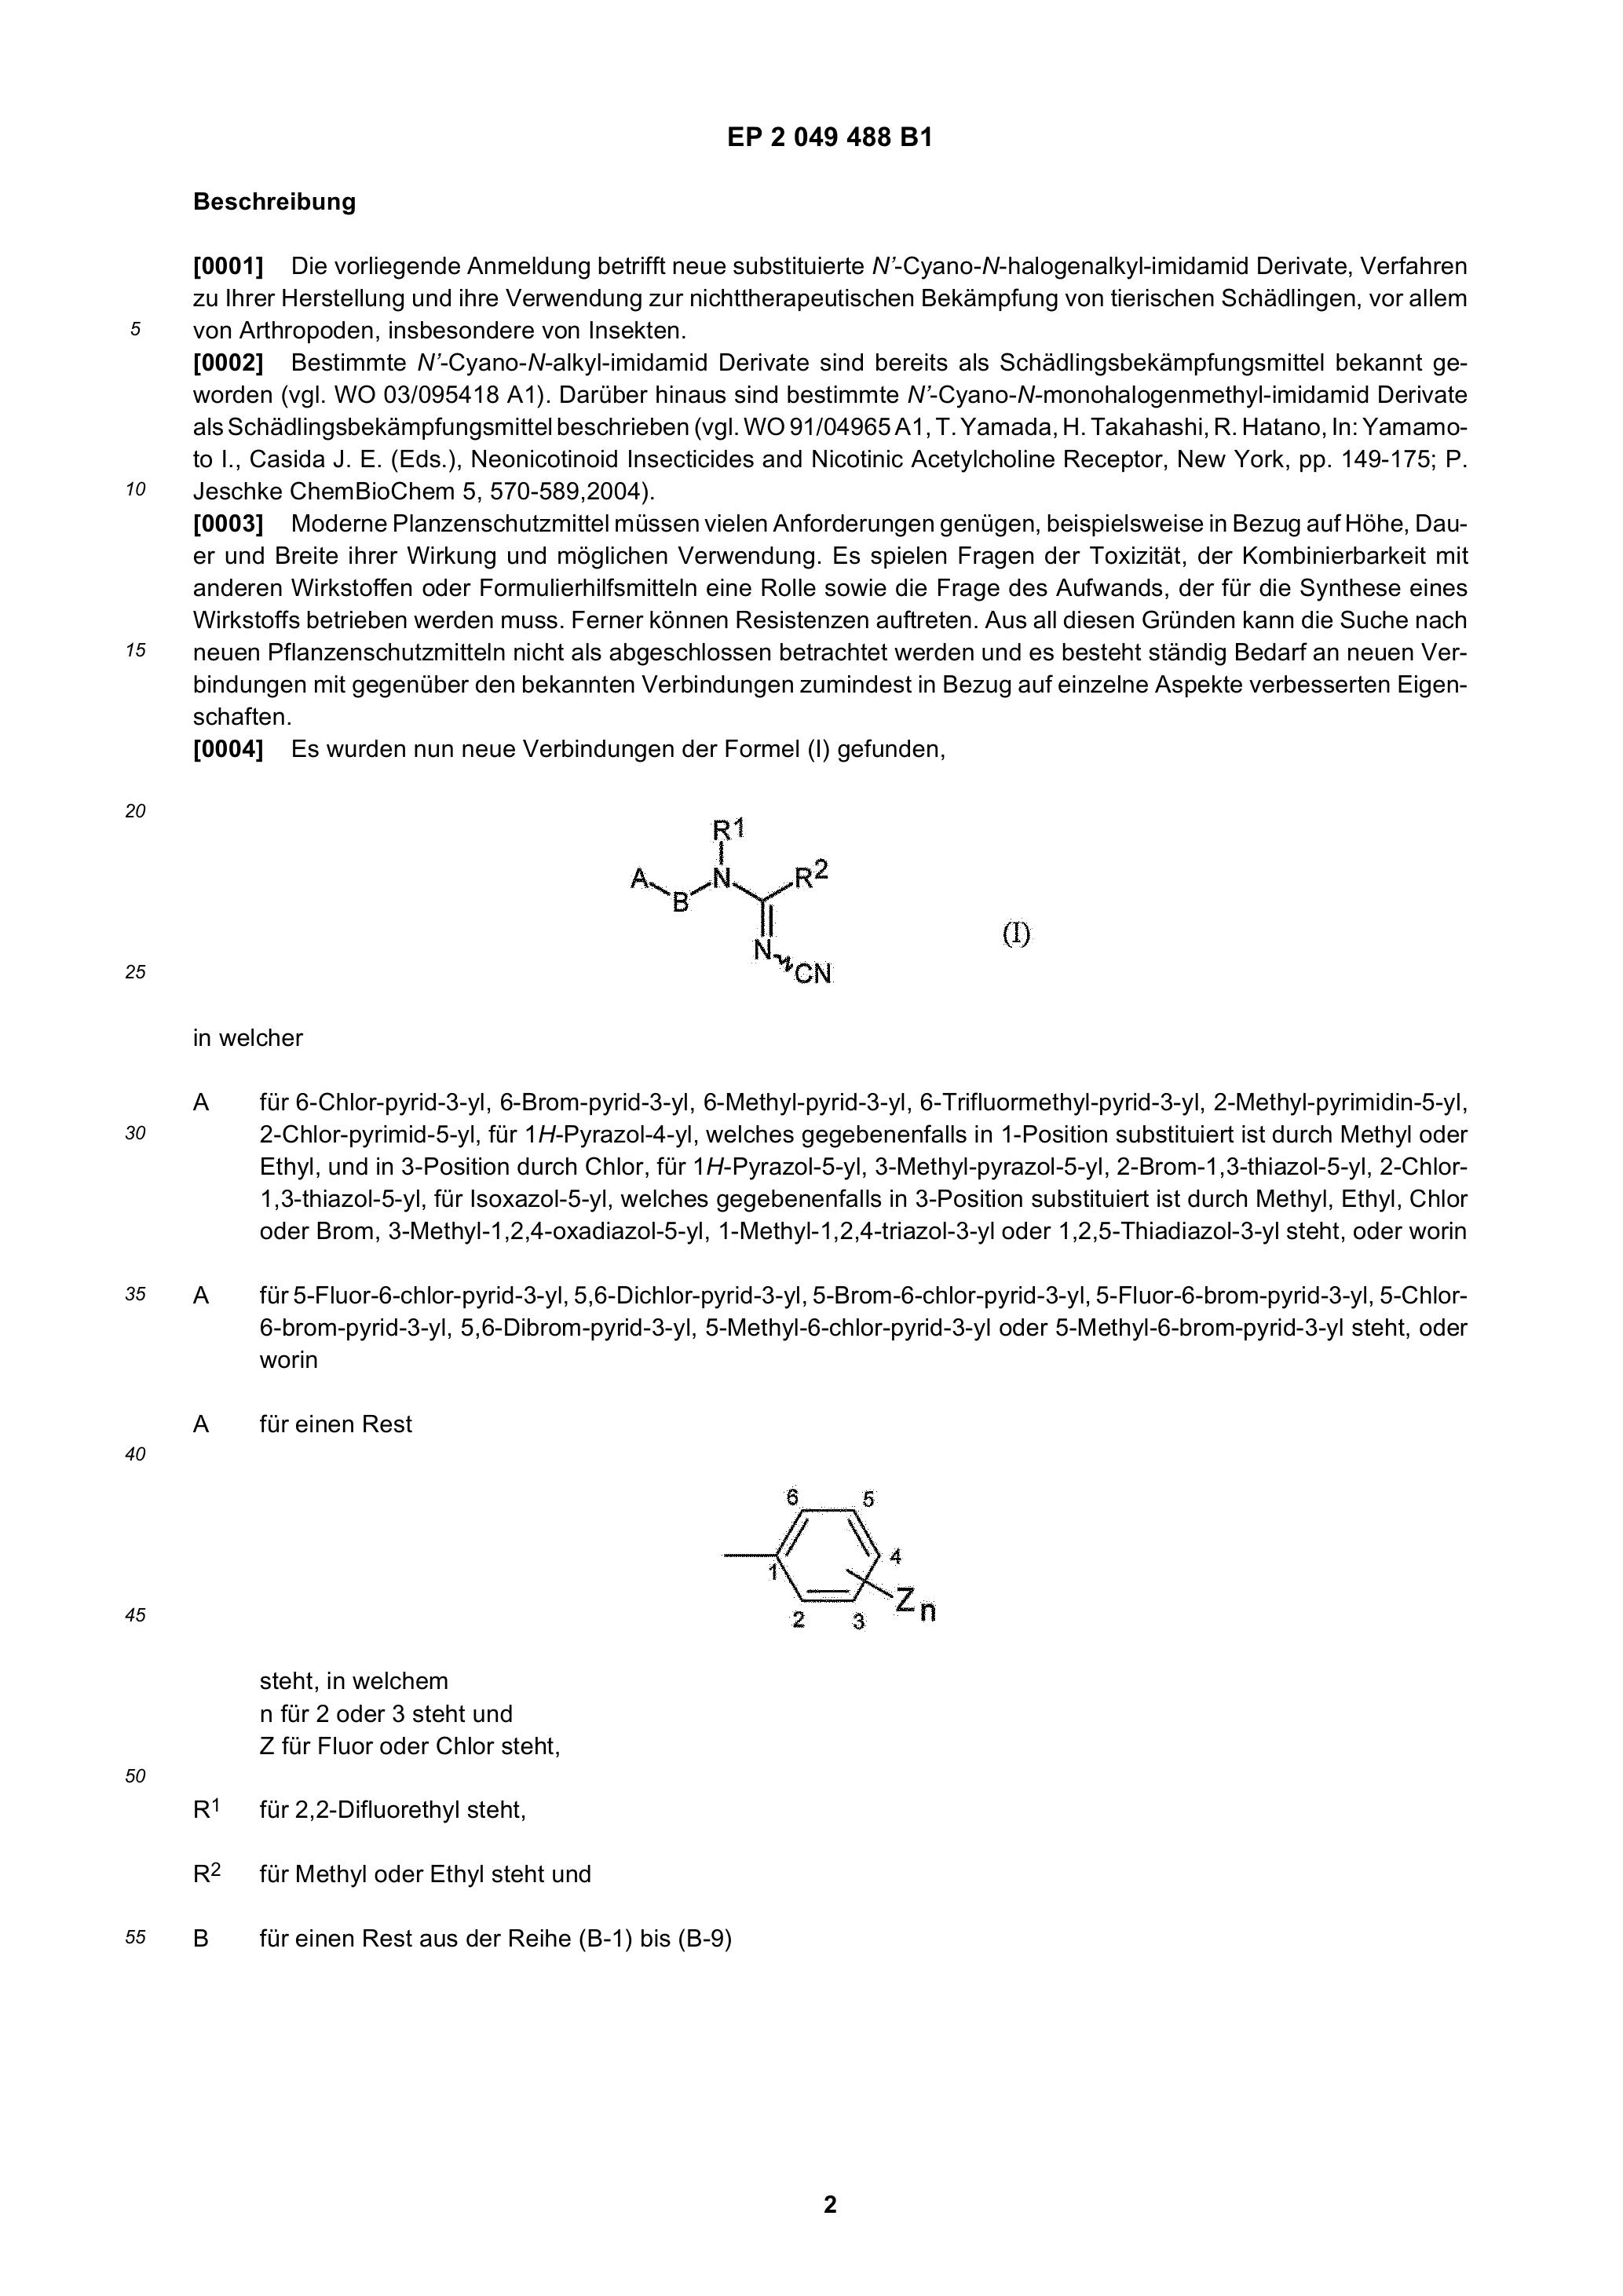markush-structures: (706, 1462, 954, 1658), (618, 801, 857, 994)
